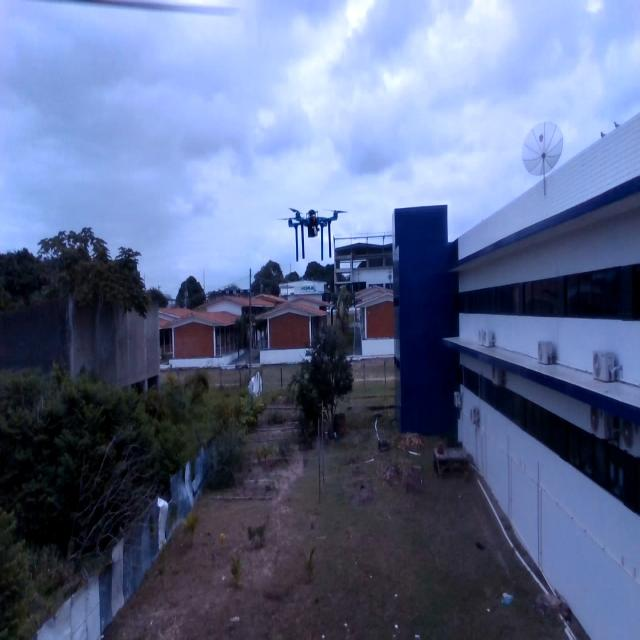-uav-: (280, 191, 348, 277)
